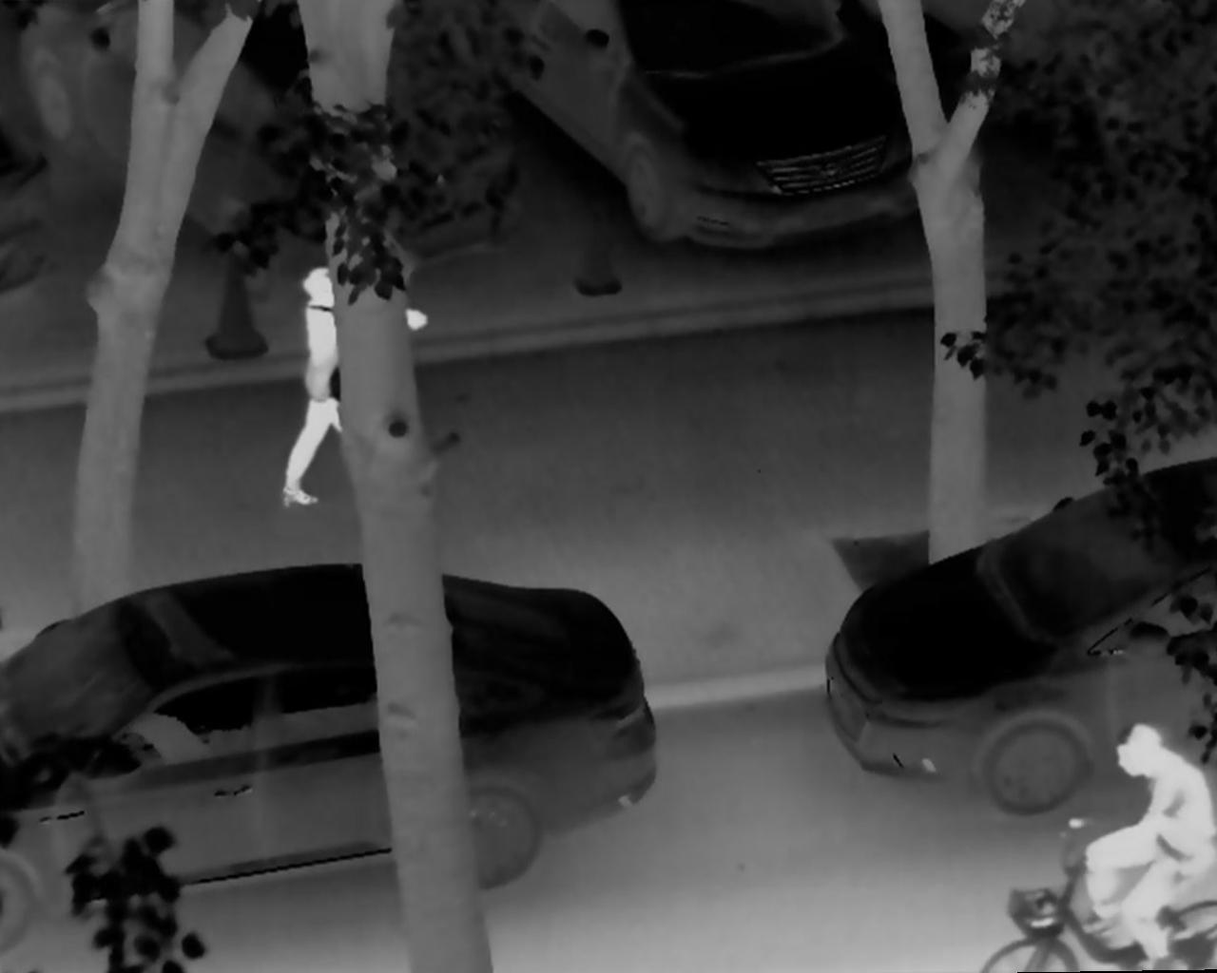person: (273, 256, 429, 506), (1074, 721, 1217, 973)
